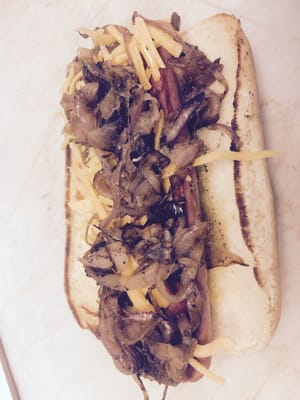soup: (60, 6, 286, 396)
